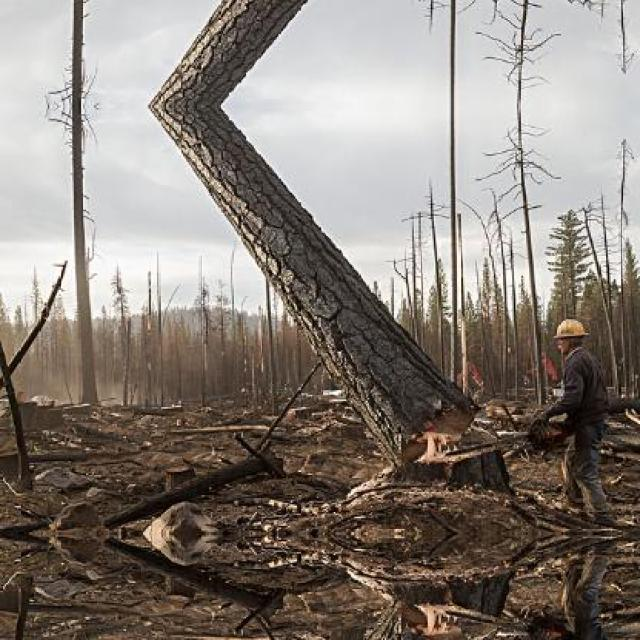helmet: (551, 313, 591, 358)
